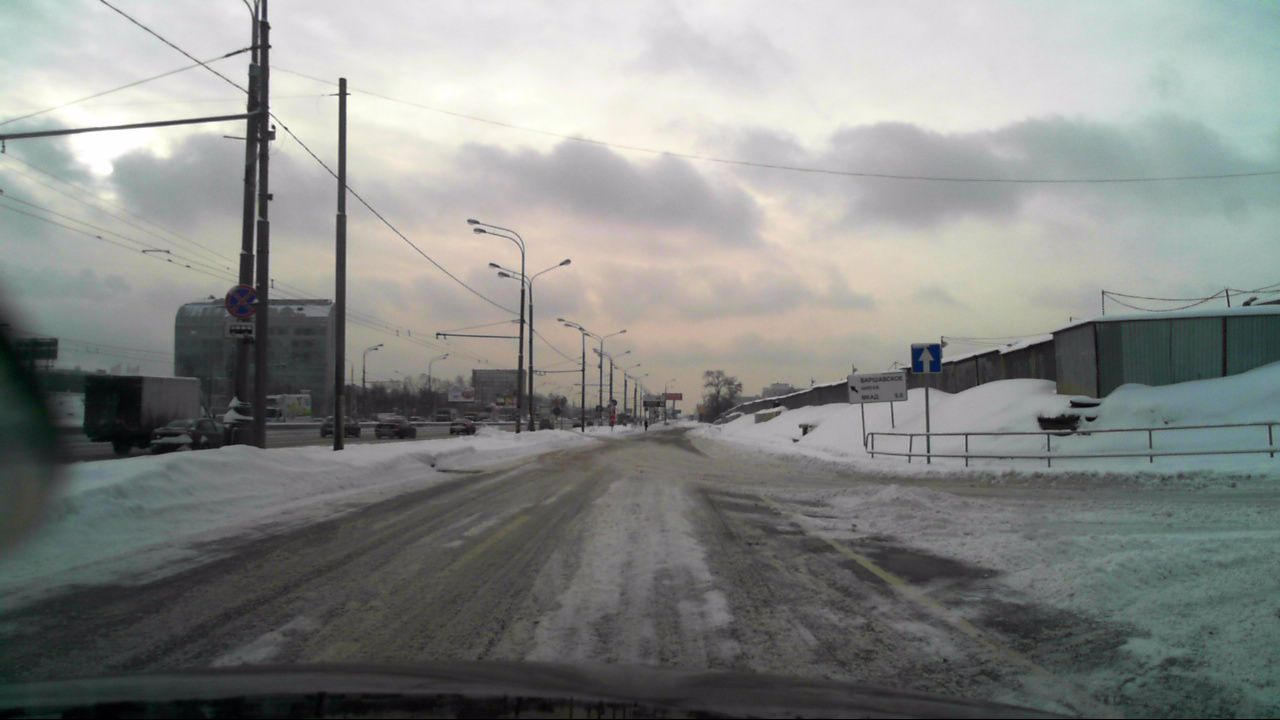No Parking: (226, 286, 259, 319)
